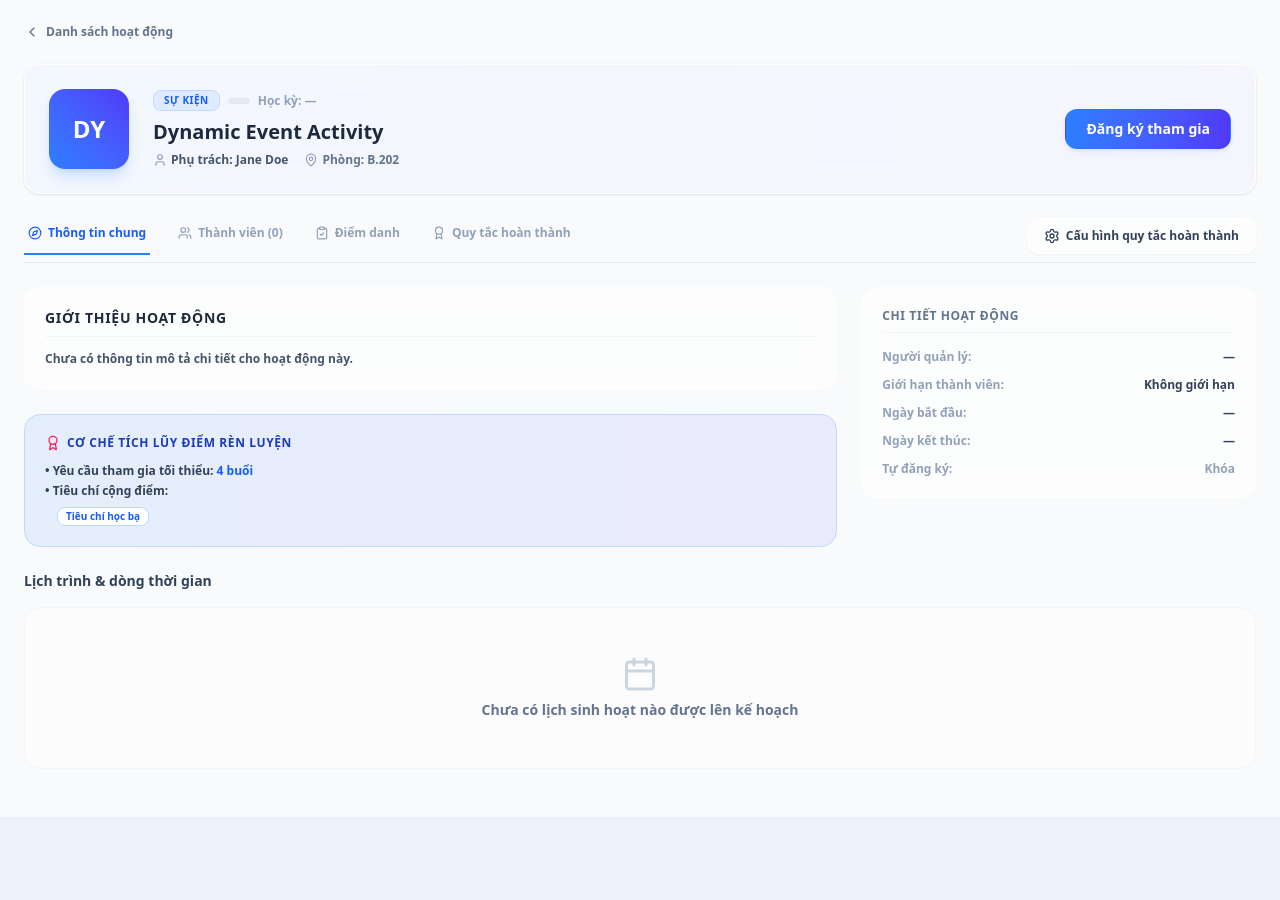
Scenario: ActivityDetailPage › renders a completion rule whose populated activity_id matches the route activity and semester
The width and height of the screenshot is (1280, 900).
Check: the heading "Dynamic Event Activity" is shown, box [153,118,384,145]
Click the button "Quy tắc hoàn thành".
click(501, 240)  # box [428,225,575,255]
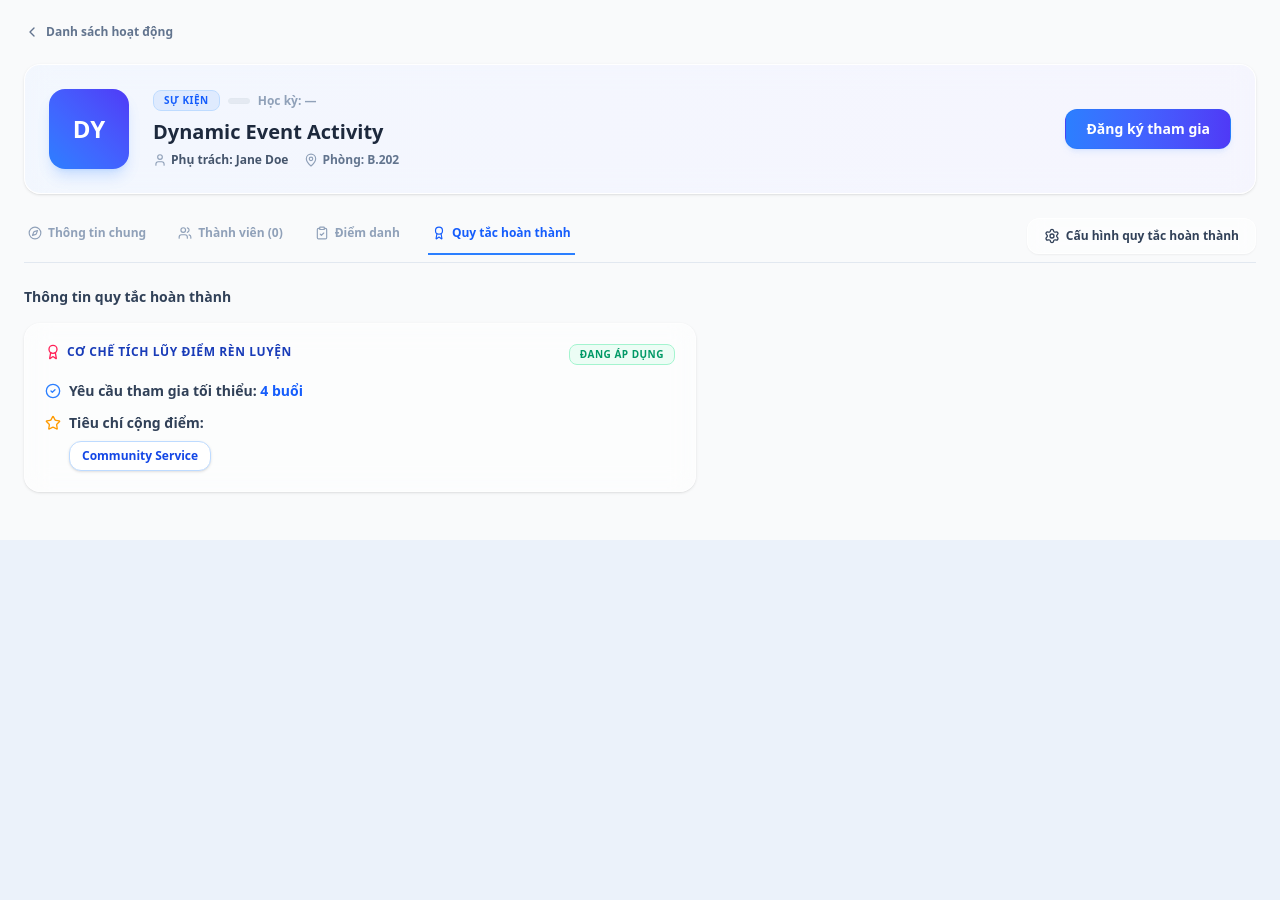
Check: the text "4" is shown, box [260,381,268,400]
Check: the text "Community Service" is shown, box [69,441,211,471]
